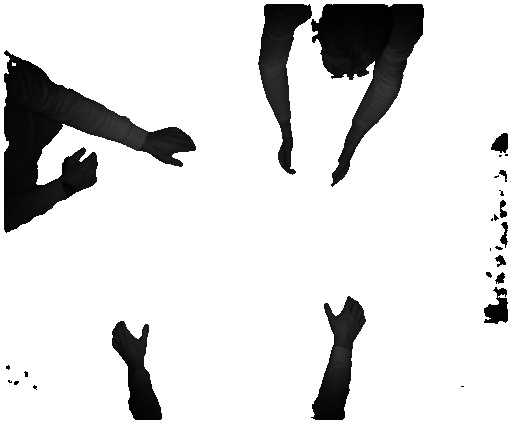fist: (62, 147, 103, 193)
hand: (320, 296, 367, 347), (149, 123, 199, 167), (112, 320, 151, 363)
spine: (328, 153, 359, 191), (272, 138, 295, 175)
